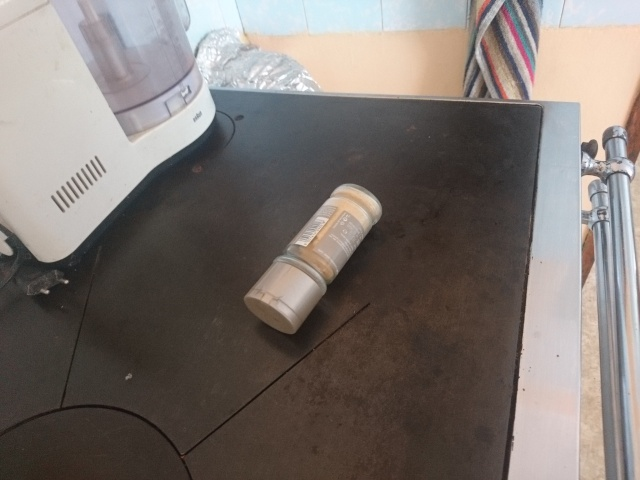Kotanyi Garlic Granules 70g: (240, 180, 385, 337)
